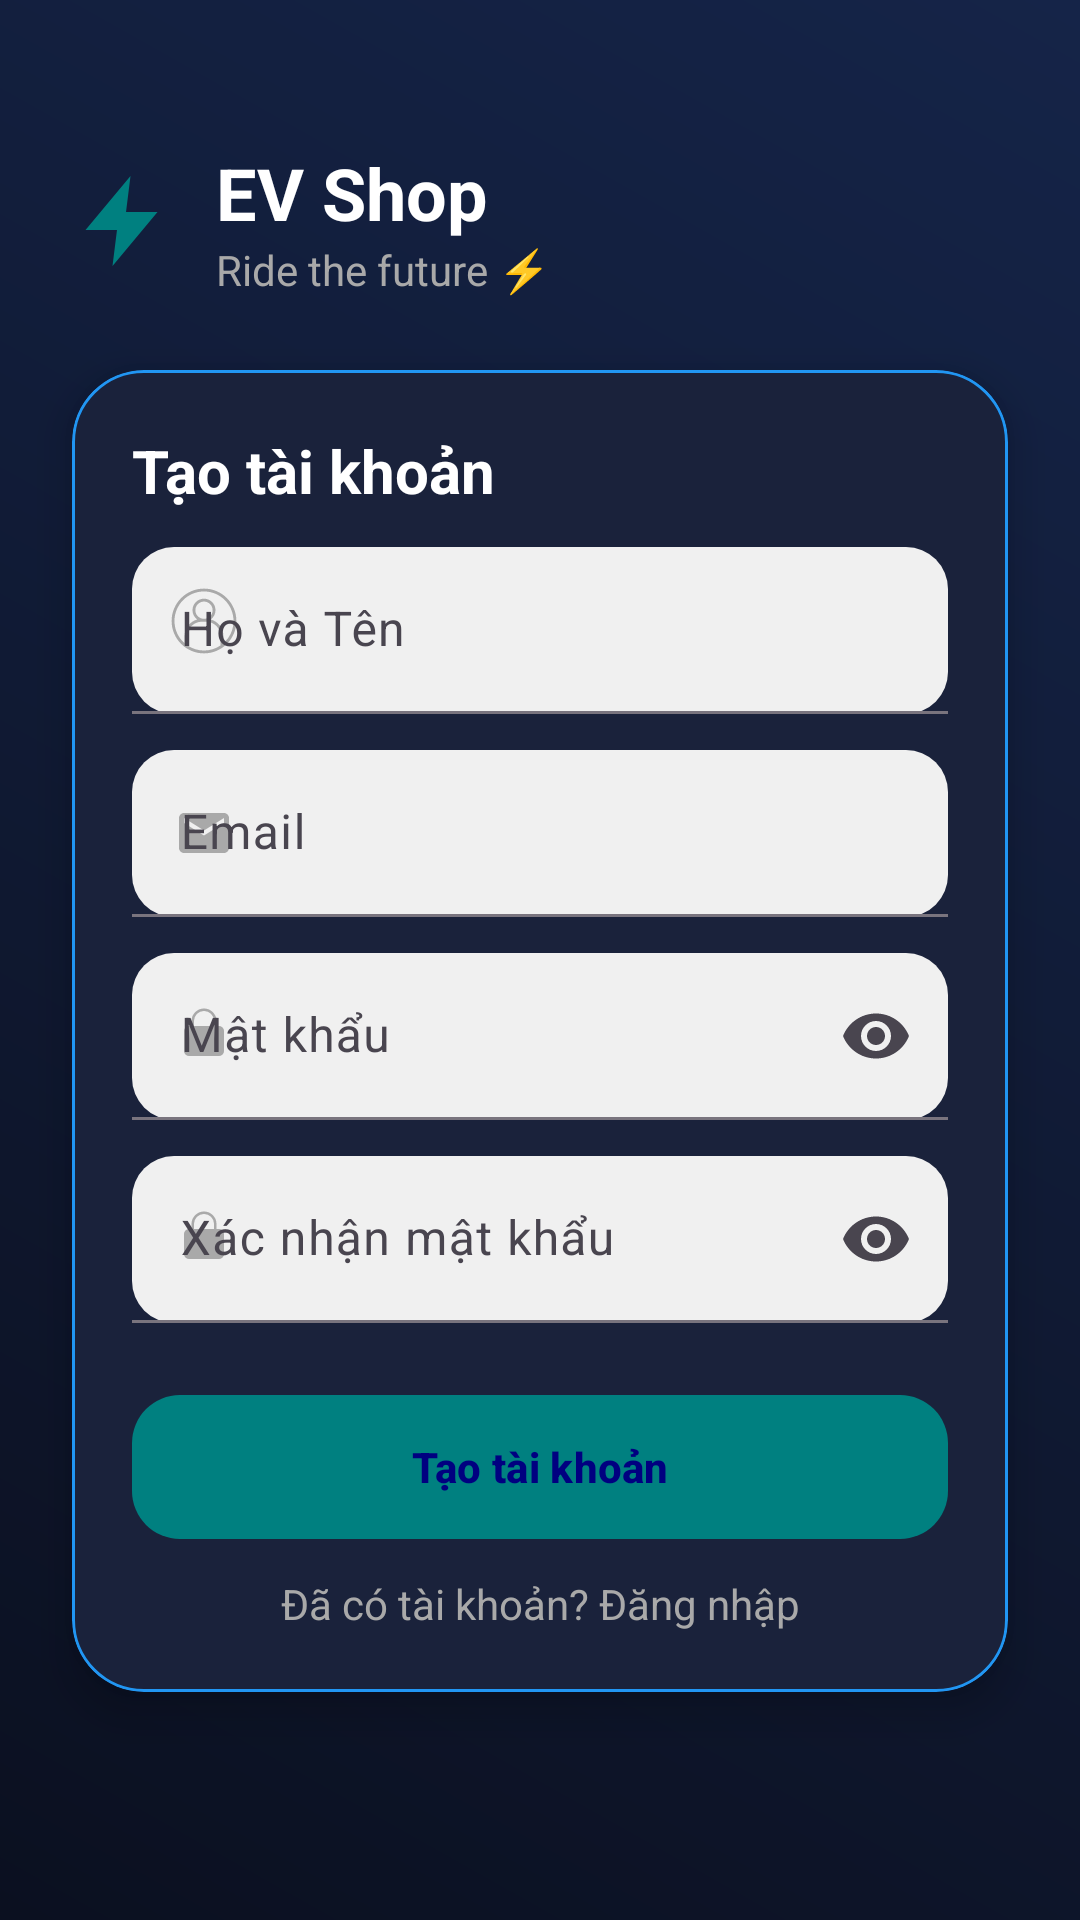

Point at icon controls on the screen. Image size 1080×1920, points as point (x, y).
bolt: point (121, 221)
